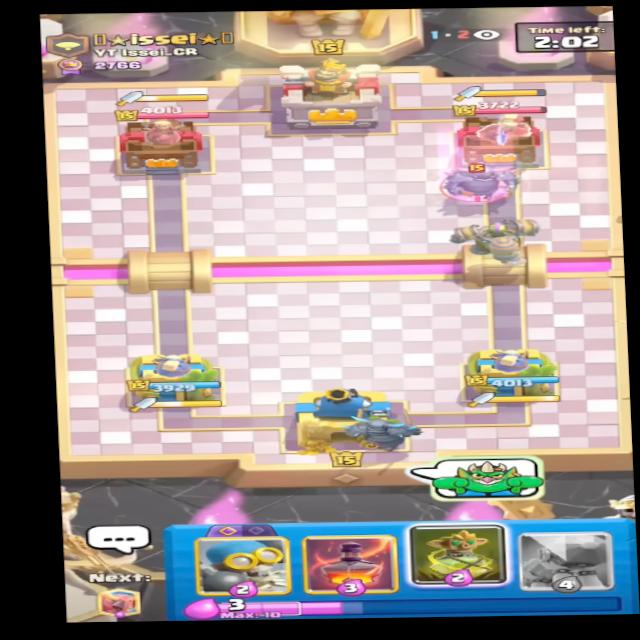pekka: (430, 159, 525, 204)
